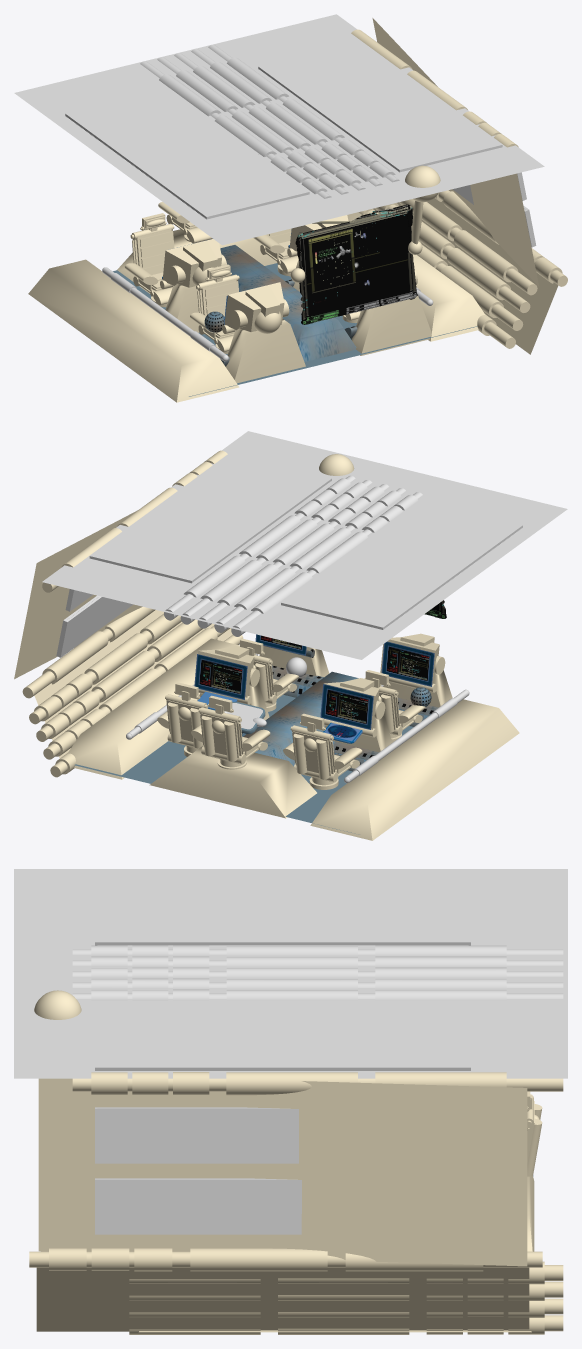
Rendered from Ares bridge.1.dae.
The picture shows the model from 3 angles, top to bottom: view 1: azimuth 30°, elevation 25°; view 2: azimuth 150°, elevation 25°; view 3: azimuth 270°, elevation 25°; orthographic projection. The views are drawn at different scales.
Parts seen in each view (by area): view 1: Polygon_Mesh (×31); view 2: Polygon_Mesh (×36); view 3: Polygon_Mesh (×17).
Boxes of the visible parts, x1,y1,x2,y2 form: Polygon_Mesh (×31): (14, 14, 567, 402); Polygon_Mesh (×36): (14, 431, 567, 840); Polygon_Mesh (×17): (14, 869, 567, 1334).
Bounding box in the file's own units: 936 × 515 × 922.
8 materials, 5 textured.
